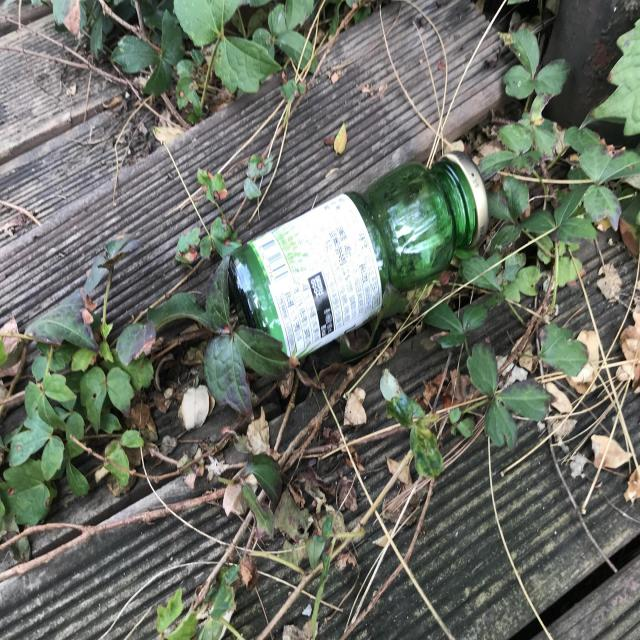glass: (229, 152, 489, 358)
